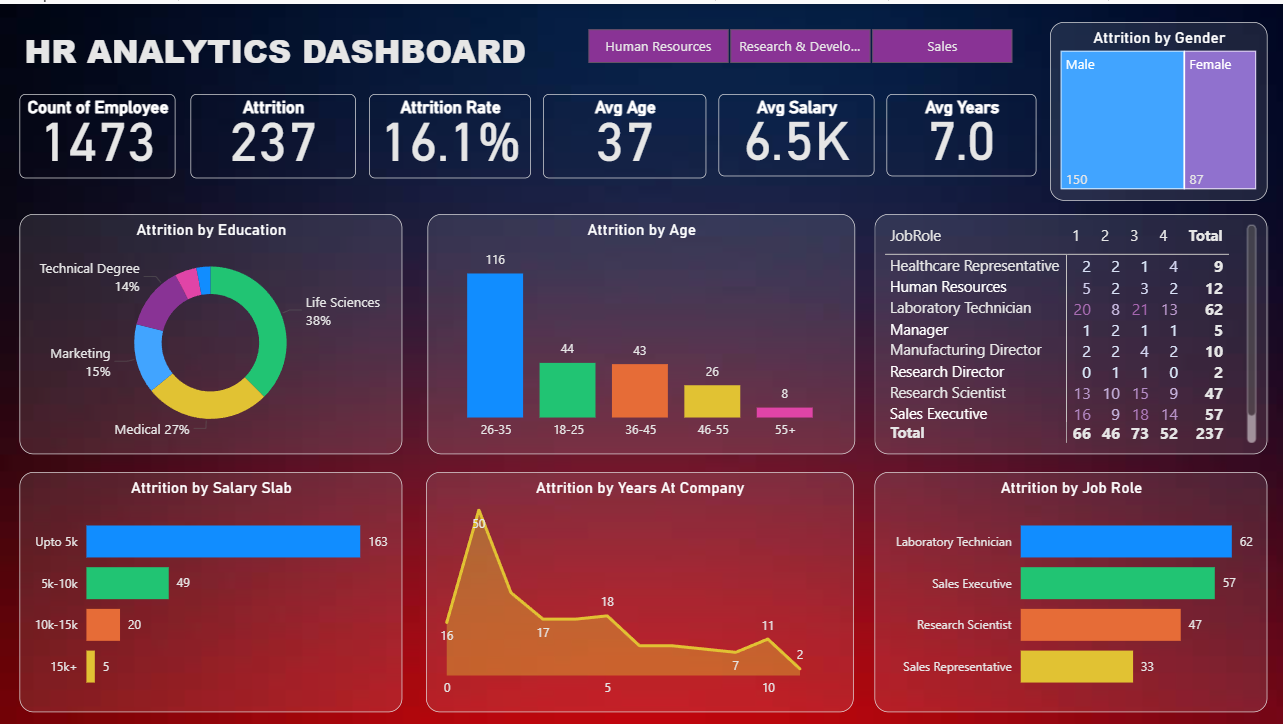

The dashboard page shown, as its layout file describes it:
{"tool":"powerbi","page":{"name":"Page 1","canvas":[1280,720],"ordinal":0},"visuals":[{"type":"card","title":"Count of Employee","fields":{"Values":["CountNonNull(HR_Analytics.EmpID)"]},"box":[19.4,89.7,155.4,83.7],"z":0},{"type":"card","title":"Avg Salary","fields":{"Values":["Avg(HR_Analytics.MonthlyIncome)"]},"box":[715.7,89.7,155.4,82.2],"z":1000},{"type":"card","title":"Attrition Rate","fields":{"Values":["HR_Analytics.AttritionRate"]},"box":[367.6,89.7,161.4,83.7],"z":2000},{"type":"card","title":"Attrition","fields":{"Values":["Sum(HR_Analytics.AttritionCount)"]},"box":[189.8,89.7,164.4,83.7],"z":3000},{"type":"card","title":"Avg Years","fields":{"Values":["Avg(HR_Analytics.YearsAtCompany)"]},"box":[883.1,89.7,149.4,82.2],"z":4000},{"type":"card","title":"Avg Age","fields":{"Values":["Avg(HR_Analytics.Age)"]},"box":[540.9,89.7,162.9,83.7],"z":5000},{"type":"donutChart","title":" Attrition by Education","fields":{"Category":["HR_Analytics.EducationField"],"Y":["Sum(HR_Analytics.AttritionCount)"]},"box":[19.4,209.2,381,239.1],"z":6000},{"type":"columnChart","title":" Attrition by Age","fields":{"Y":["Sum(HR_Analytics.AttritionCount)"],"Category":["HR_Analytics.AgeGroup"]},"box":[425.8,209.2,425.8,239.1],"z":7000},{"type":"pivotTable","fields":{"Rows":["HR_Analytics.JobRole"],"Columns":["HR_Analytics.JobSatisfaction"],"Values":["Sum(HR_Analytics.AttritionCount)"]},"box":[871.1,209.2,391.5,239.1],"z":8000},{"type":"barChart","title":" Attrition by Salary Slab","fields":{"Category":["HR_Analytics.SalarySlab"],"Y":["Sum(HR_Analytics.AttritionCount)"]},"box":[19.4,466.2,381,239.1],"z":9000},{"type":"barChart","title":" Attrition by Job Role","fields":{"Category":["HR_Analytics.JobRole"],"Y":["Sum(HR_Analytics.AttritionCount)"]},"box":[871.1,466.2,391.5,239.1],"z":10000},{"type":"areaChart","title":" Attrition by Years At Company","fields":{"Category":["HR_Analytics.YearsAtCompany"],"Y":["Sum(HR_Analytics.AttritionCount)"]},"box":[424.3,466.2,425.8,239.1],"z":11000},{"type":"treemap","title":" Attrition by Gender","fields":{"Group":["HR_Analytics.Gender"],"Values":["Sum(HR_Analytics.AttritionCount)"]},"box":[1045.9,17.9,216.7,177.8],"z":12000},{"type":"slicer","fields":{"Values":["HR_Analytics.Department"]},"box":[560.3,17.9,472.2,47.8],"z":13000},{"type":"textbox","box":[19.4,17.9,540.9,58.3],"z":14000}]}

Visuals, with their boxes in screenshot pixels (x1, y1, x2, y2), scaled from the page's 1280x720 canvas onto the 1283x724 screenshot:
"Count of Employee" card: x1=19 y1=90 x2=175 y2=174
"Avg Salary" card: x1=717 y1=90 x2=873 y2=173
"Attrition Rate" card: x1=368 y1=90 x2=530 y2=174
"Attrition" card: x1=190 y1=90 x2=355 y2=174
"Avg Years" card: x1=885 y1=90 x2=1035 y2=173
"Avg Age" card: x1=542 y1=90 x2=705 y2=174
" Attrition by Education" donutChart: x1=19 y1=210 x2=401 y2=451
" Attrition by Age" columnChart: x1=427 y1=210 x2=854 y2=451
pivotTable - HR_Analytics.JobRole x HR_Analytics.JobSatisfaction: x1=873 y1=210 x2=1266 y2=451
" Attrition by Salary Slab" barChart: x1=19 y1=469 x2=401 y2=709
" Attrition by Job Role" barChart: x1=873 y1=469 x2=1266 y2=709
" Attrition by Years At Company" areaChart: x1=425 y1=469 x2=852 y2=709
" Attrition by Gender" treemap: x1=1048 y1=18 x2=1266 y2=197
slicer - HR_Analytics.Department: x1=562 y1=18 x2=1035 y2=66
textbox: x1=19 y1=18 x2=562 y2=77
